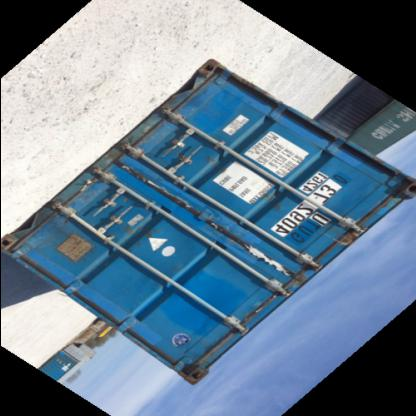Damage: (124, 114, 181, 166), (60, 166, 110, 212), (242, 240, 296, 270), (136, 179, 178, 201), (204, 216, 224, 234)
